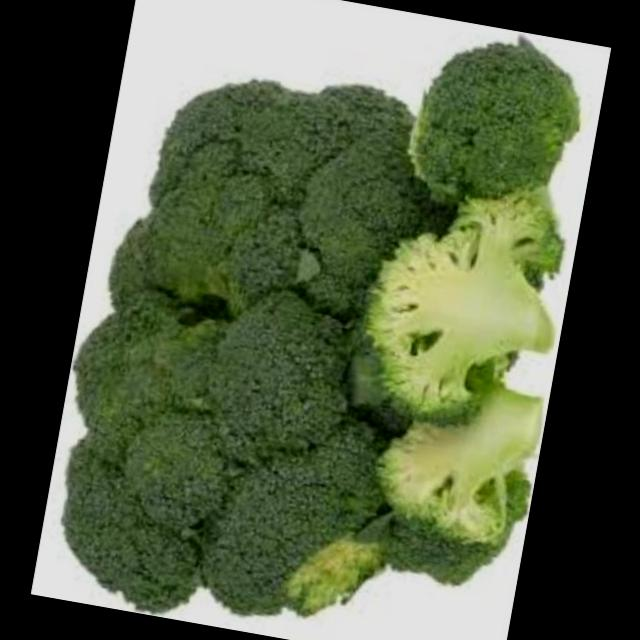Broccoli: (32, 0, 609, 640), (326, 169, 581, 439), (360, 355, 551, 565)
